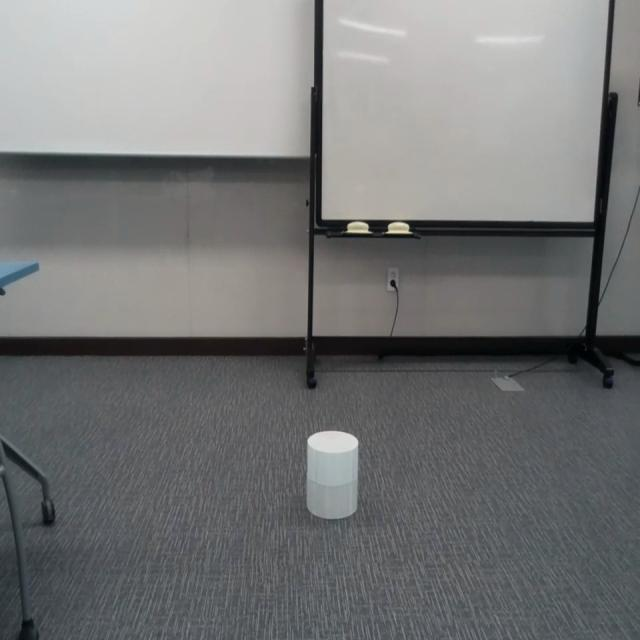cylinder: (307, 431, 359, 519)
